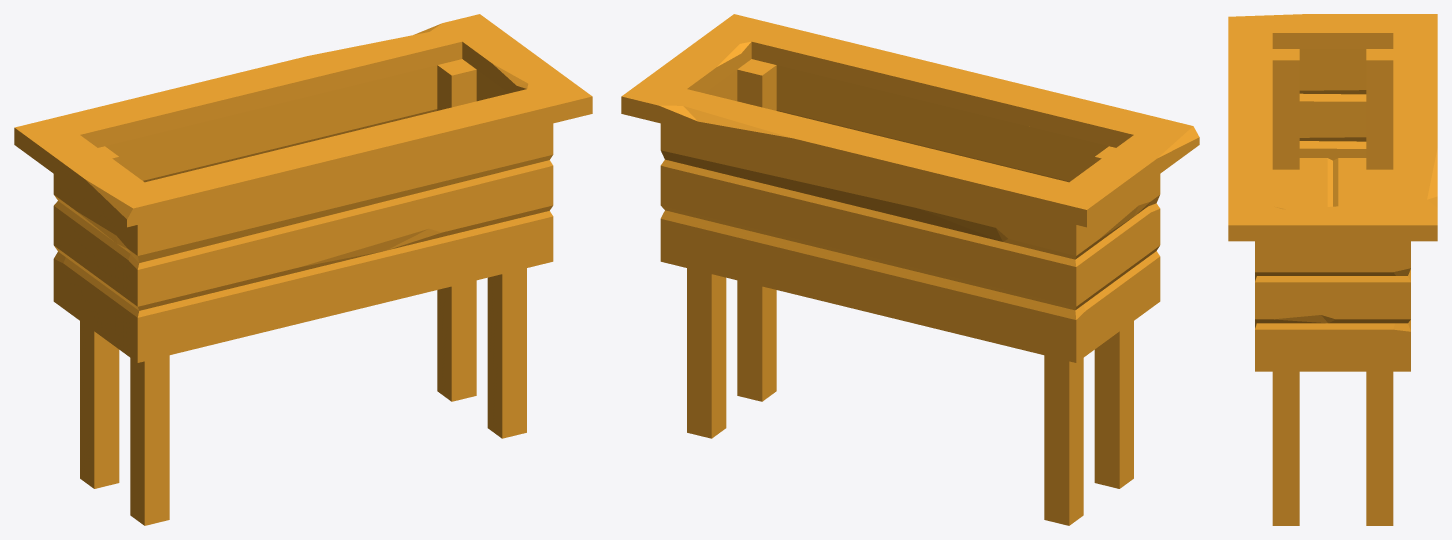
Rendered from SM_Planter_Box_Small_A_Farm.fbx.
3 views of the same model, side by side, from view 1: azimuth 30°, elevation 25°; view 2: azimuth 150°, elevation 25°; view 3: azimuth 270°, elevation 25° (orthographic). The views are drawn at different scales.
Visible parts, largest first — view 1: planter-box-small-a-farm; view 2: planter-box-small-a-farm; view 3: planter-box-small-a-farm.
Boxes of the visible parts, x1=… form: planter-box-small-a-farm: x1=14, y1=14, x2=592, y2=525; planter-box-small-a-farm: x1=621, y1=14, x2=1199, y2=525; planter-box-small-a-farm: x1=1228, y1=14, x2=1437, y2=525.
Size of the model in its own units: 1.12 by 0.79 by 0.4695.
